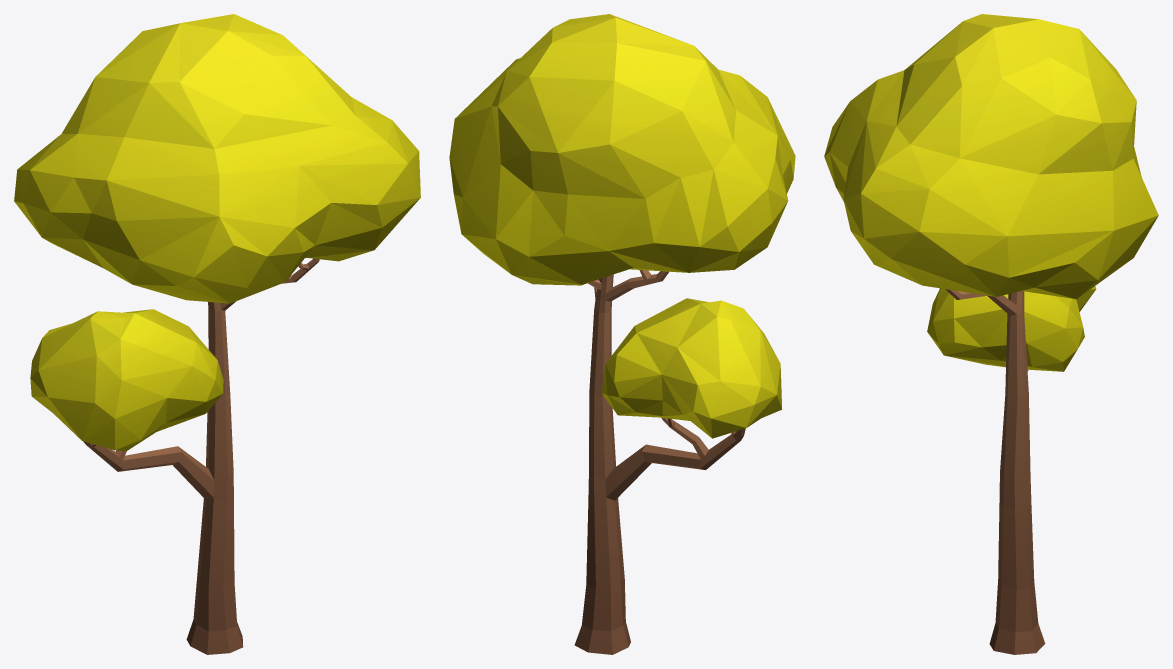
File: Tree_common_Yellow_01.fbx
3 views of the same model, side by side, from view 1: azimuth 30°, elevation 25°; view 2: azimuth 150°, elevation 25°; view 3: azimuth 270°, elevation 25° (orthographic).
Parts seen in each view (by area): view 1: Tree_common_Yellow_01; view 2: Tree_common_Yellow_01; view 3: Tree_common_Yellow_01.
Part boxes in pixels (x1,y1,x2,y2): Tree_common_Yellow_01: (14,14,420,654); Tree_common_Yellow_01: (449,14,795,654); Tree_common_Yellow_01: (824,14,1158,654).
Bounding box in the file's own units: 373 × 645 × 317.
